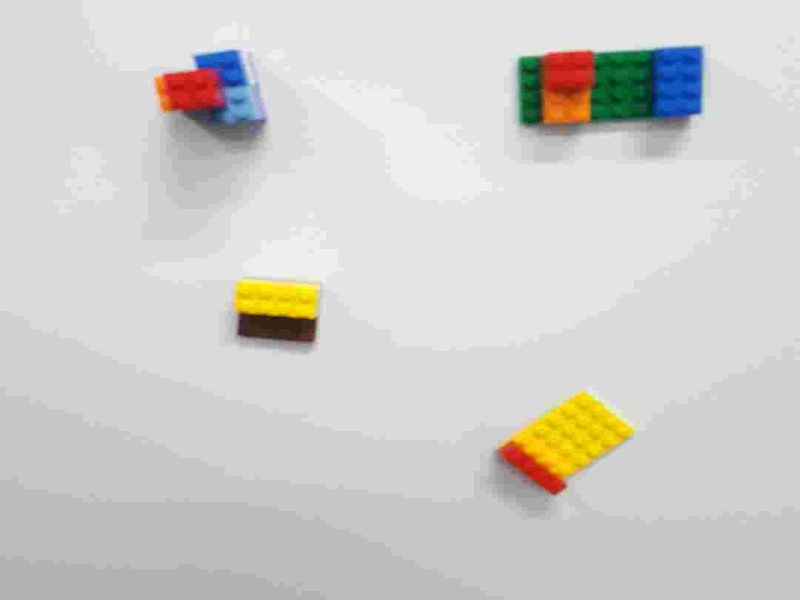Lego1: (229, 274, 330, 348)
Lego2: (491, 387, 637, 497)
